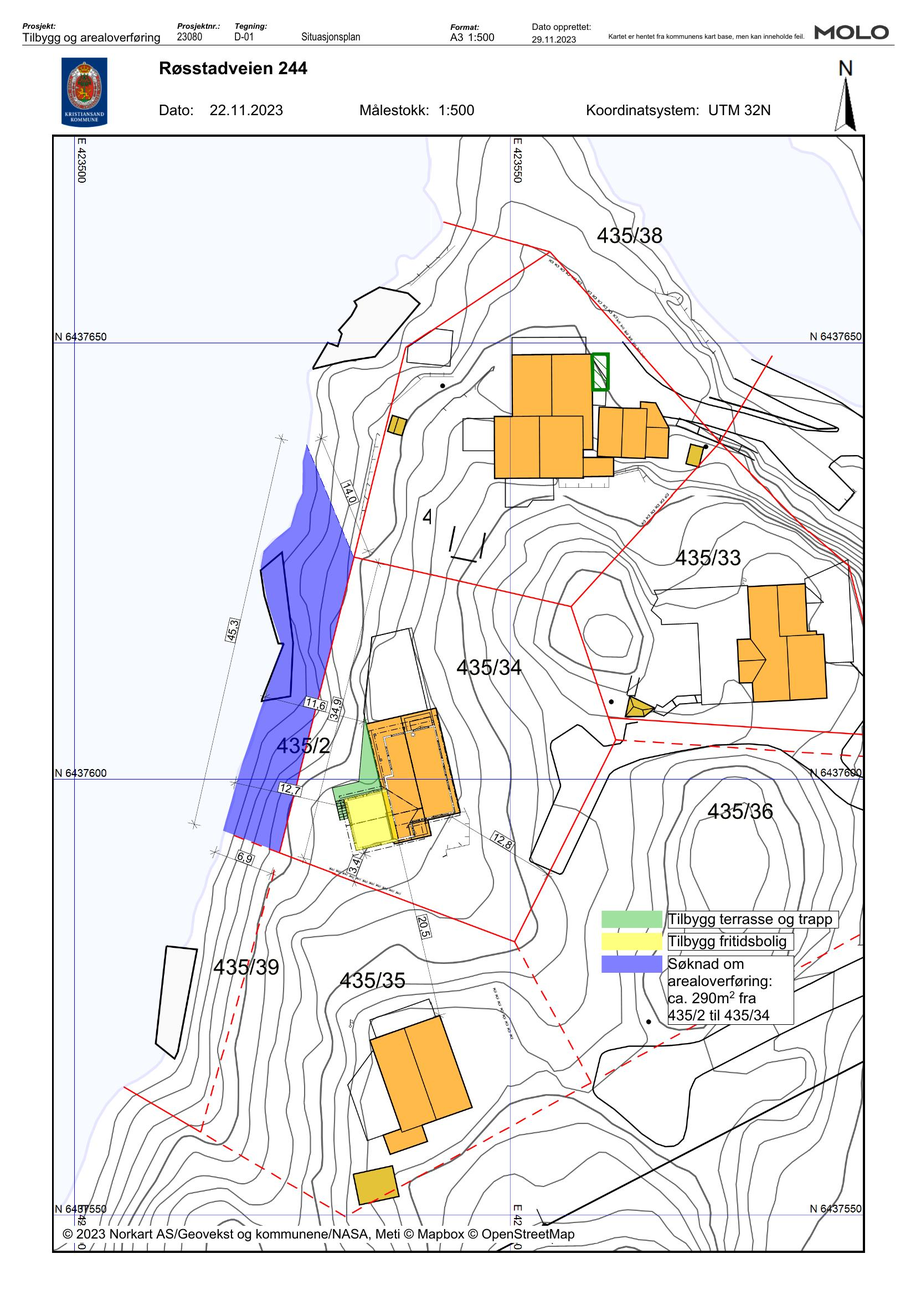situasjonskart: (55, 136, 865, 1251)
